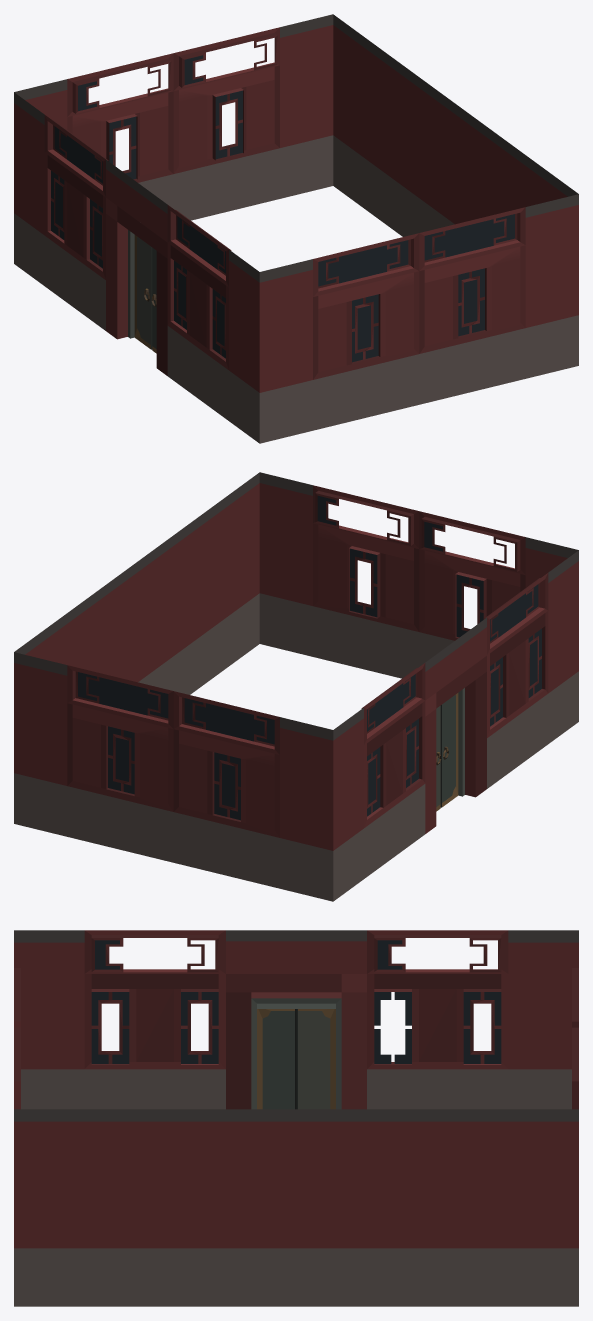
File: BuildingA-Sm_B.fbx
The picture shows the model from 3 angles, top to bottom: view 1: azimuth 30°, elevation 25°; view 2: azimuth 150°, elevation 25°; view 3: azimuth 270°, elevation 25°; orthographic projection. The views are drawn at different scales.
Parts seen in each view (by area): view 1: BuildingA-Sm_B; view 2: BuildingA-Sm_B; view 3: BuildingA-Sm_B.
Boxes of the visible parts, x1,y1,x2,y2 form: BuildingA-Sm_B: [14, 14, 578, 443]; BuildingA-Sm_B: [14, 472, 578, 901]; BuildingA-Sm_B: [14, 930, 578, 1306].
Size of the model in its own units: 750 by 386 by 1000.
